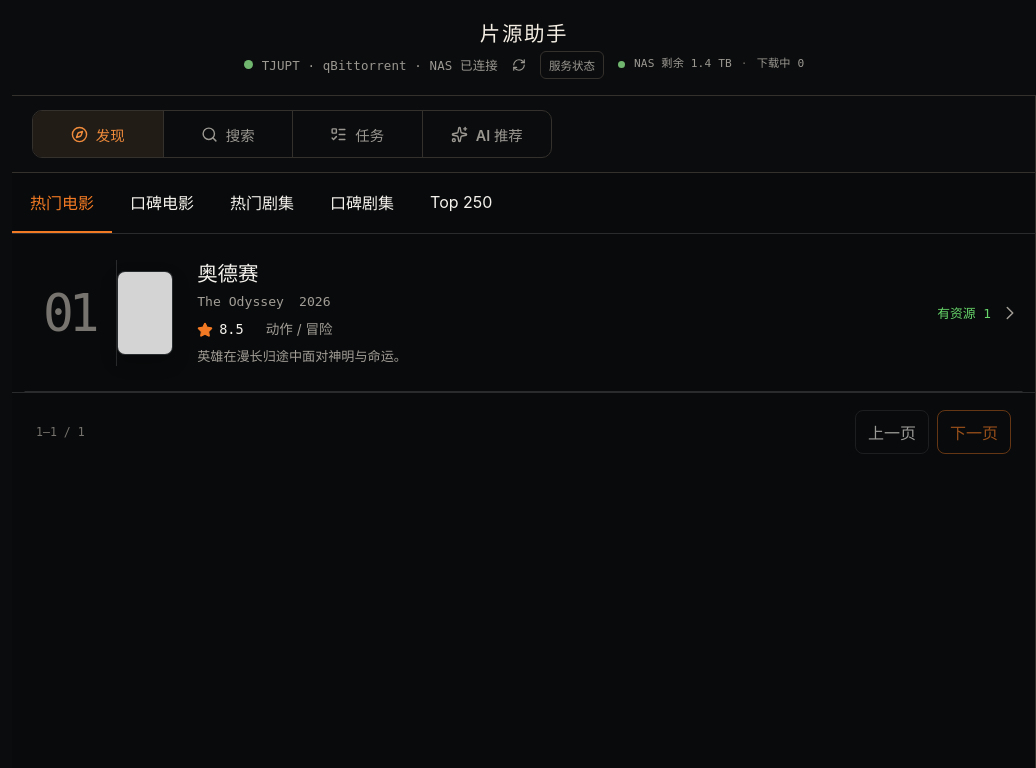
Test: 片源助手客户端 › opens title suggestions in the same media inspector as discovery entries
Click the tab "搜索": click(227, 134) [162,111,292,157]
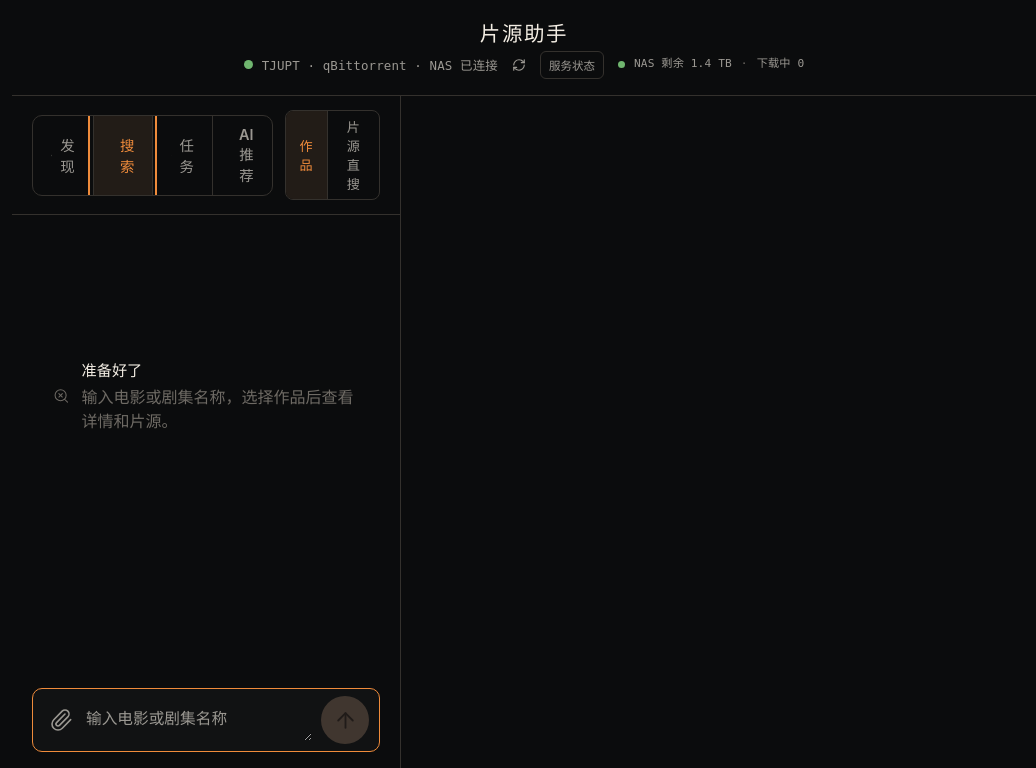
In the text box with placeholder "输入电影或剧集名称": (199, 720) [86,699,312,741], type "星际穿越"
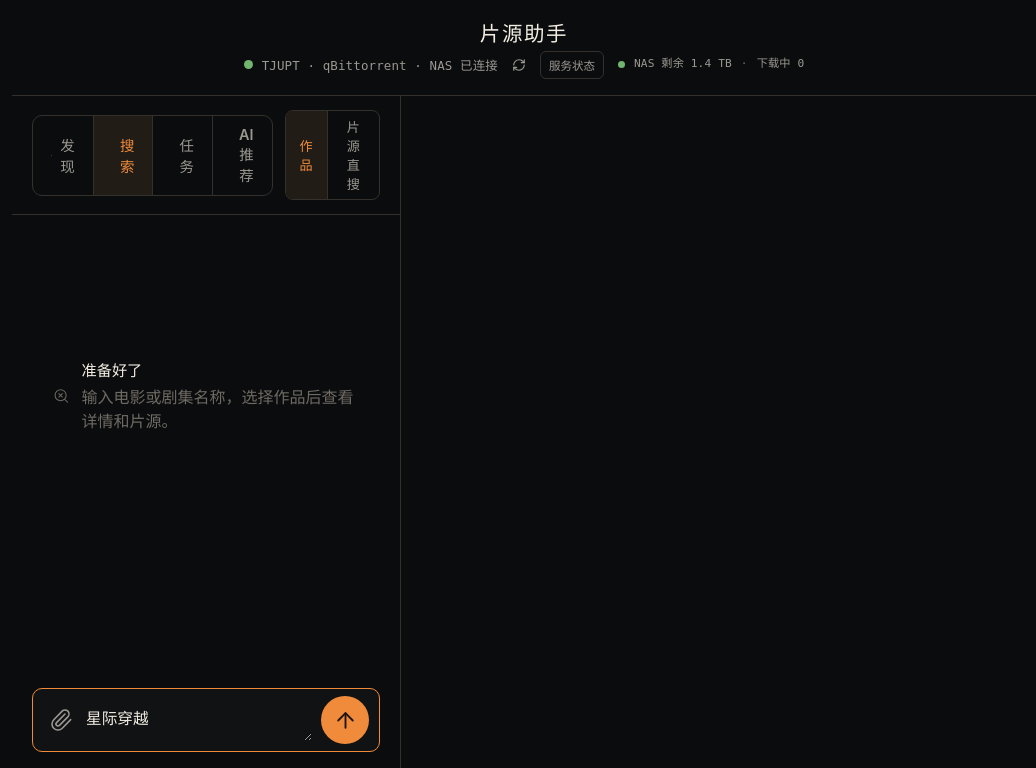
Click the button named "发送搜索": click(345, 720) [321,696,369,744]
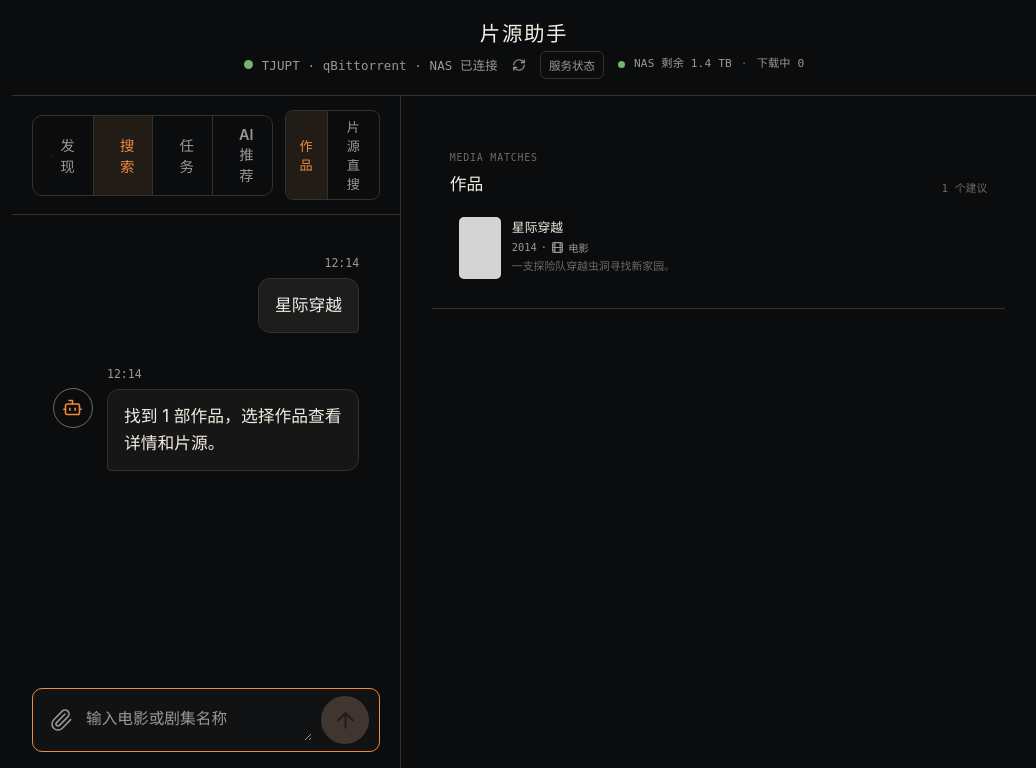
Check: the button with aria-label "星际穿越，2014，电影" is shown
Click the button with aria-label "星际穿越，2014，电影": click(480, 248) [450,208,987,288]
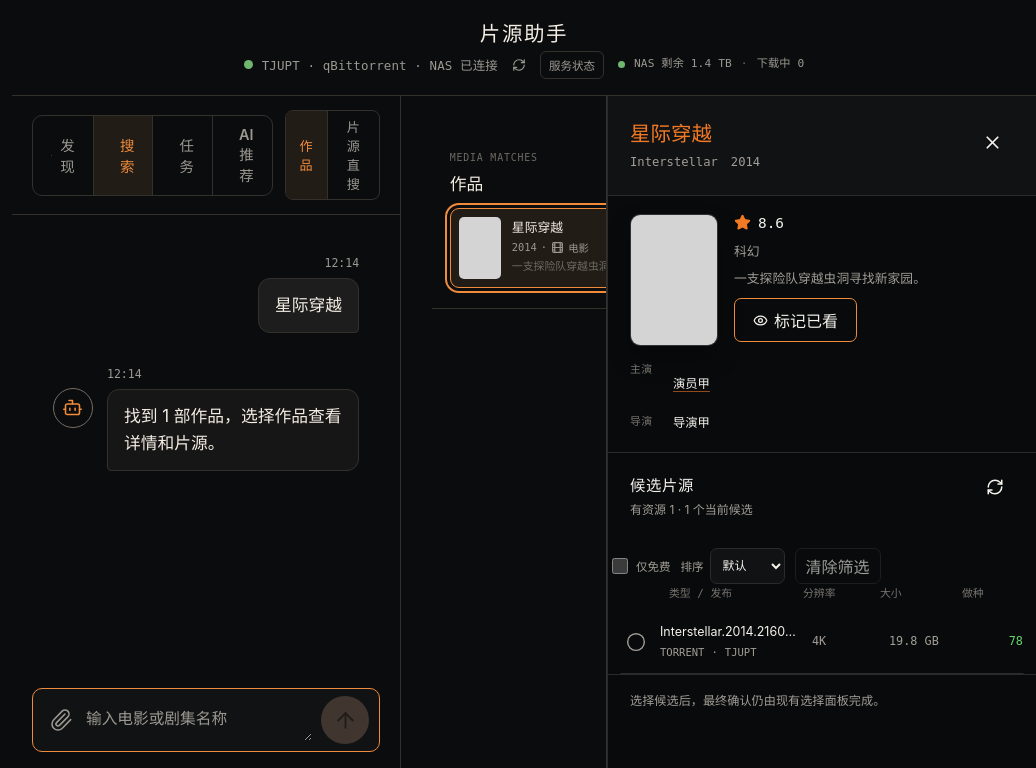
Check: the heading "星际穿越" is shown, box [630,121,712,146]
Check: the text "Interstellar.2014.2160p.BluRay.x265.10bit.AAC5.1-TJUPT" is shown, box [660,624,803,641]
